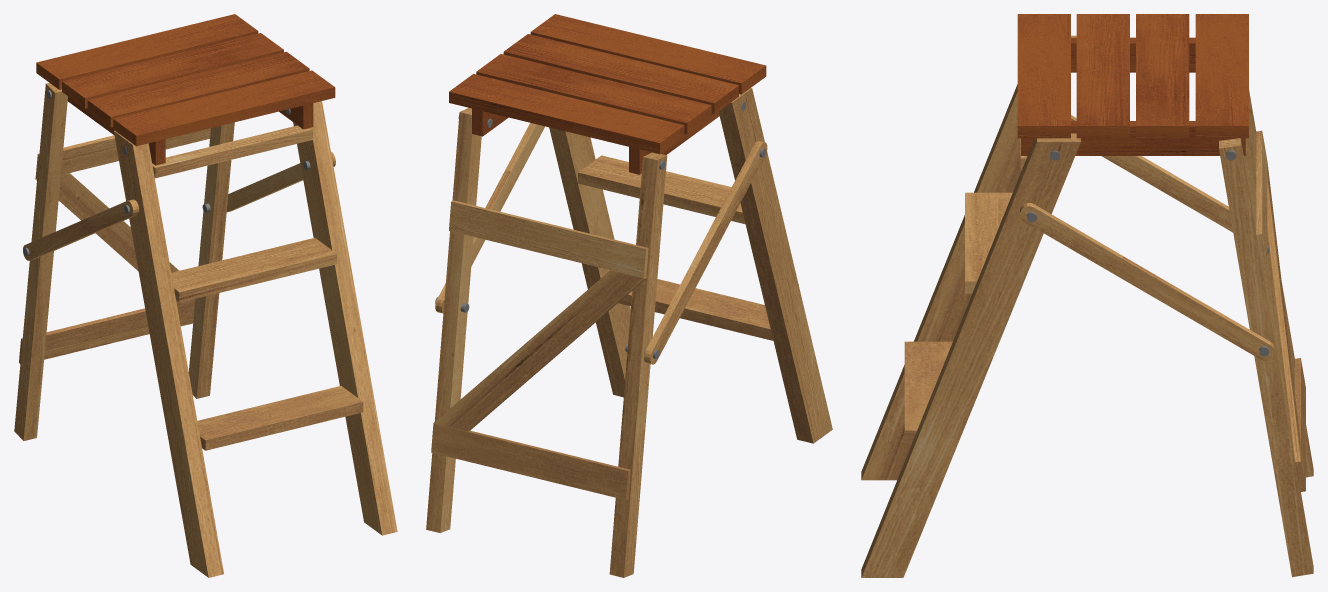
File: step-ladder-wood.obj
3 views of the same model, side by side, from view 1: azimuth 30°, elevation 25°; view 2: azimuth 150°, elevation 25°; view 3: azimuth 270°, elevation 25° (orthographic). The views are drawn at different scales.
Parts seen in each view (by area): view 1: Cube_Cube.001, Cube.004_Cube.008, Cube.001_Cube.002, Cube.002_Cube.003, Cube.006_Cube.014, Cube.008_Cube.017, Cube.003_Cube.013, Cube.009_Cube.018, Cube.007_Cube.016; view 2: Cube_Cube.001, Cube.004_Cube.008, Cube.009_Cube.018, Cube.007_Cube.016, Cube.008_Cube.017, Cube.006_Cube.014, Cube.002_Cube.003, Cube.001_Cube.002; view 3: Cube_Cube.001, Cube.004_Cube.008, Cube.006_Cube.014, Cube.001_Cube.002, Cube.002_Cube.003, Cube.009_Cube.018, Cube.007_Cube.016, Cube.008_Cube.017.
Part boxes in pixels (x1,y1,x2,y2): Cube_Cube.001: (14, 83, 397, 577); Cube.004_Cube.008: (36, 14, 335, 165); Cube.001_Cube.002: (197, 386, 363, 450); Cube.002_Cube.003: (171, 238, 336, 302); Cube.006_Cube.014: (23, 151, 335, 260); Cube.008_Cube.017: (19, 299, 195, 363); Cube.003_Cube.013: (152, 125, 312, 178); Cube.009_Cube.018: (34, 173, 194, 303); Cube.007_Cube.016: (35, 128, 210, 178); Cube_Cube.001: (426, 88, 832, 577); Cube.004_Cube.008: (449, 14, 766, 174); Cube.009_Cube.018: (433, 270, 647, 431); Cube.007_Cube.016: (449, 200, 648, 278); Cube.008_Cube.017: (431, 423, 630, 499); Cube.006_Cube.014: (435, 123, 767, 364); Cube.002_Cube.003: (578, 155, 745, 224); Cube.001_Cube.002: (618, 279, 773, 340); Cube_Cube.001: (861, 35, 1313, 577); Cube.004_Cube.008: (1017, 14, 1248, 155); Cube.006_Cube.014: (1020, 115, 1274, 360); Cube.001_Cube.002: (904, 341, 952, 442); Cube.002_Cube.003: (965, 192, 1012, 293); Cube.009_Cube.018: (1267, 162, 1300, 462); Cube.007_Cube.016: (1256, 130, 1267, 264); Cube.008_Cube.017: (1295, 358, 1305, 491).
Bounding box in the file's own units: 45.55 × 82.71 × 74.52.
Materials: 3 (2 with a texture image).
